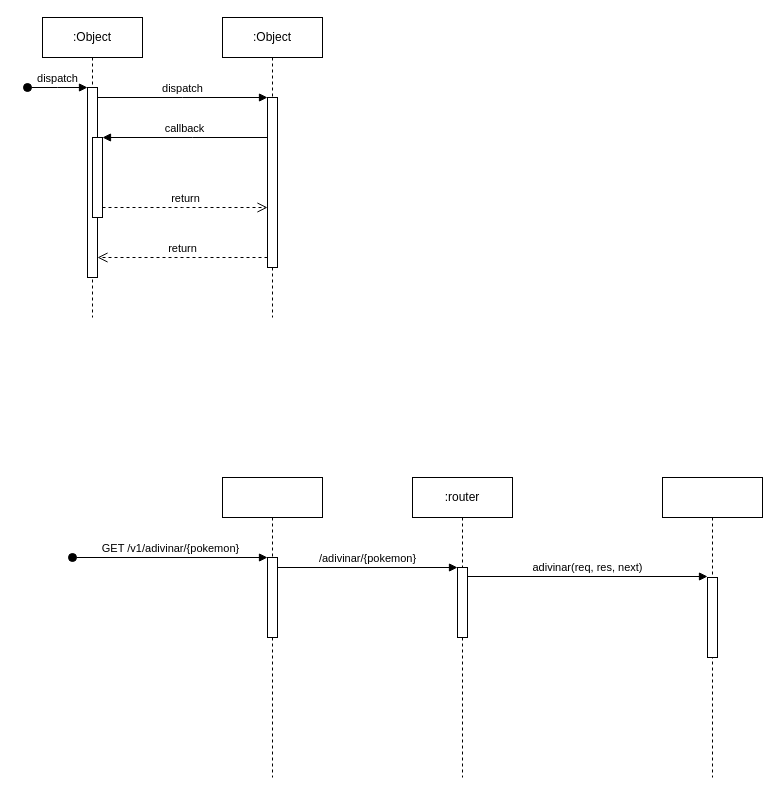
Some shapes in this 783 by 795 pixel diagram are drawn without their labels. Here are the shapes that lost their labels. From the top down, the centre of each, then its label:
the point at 272,627: :server
the point at 712,627: :PokemonController
